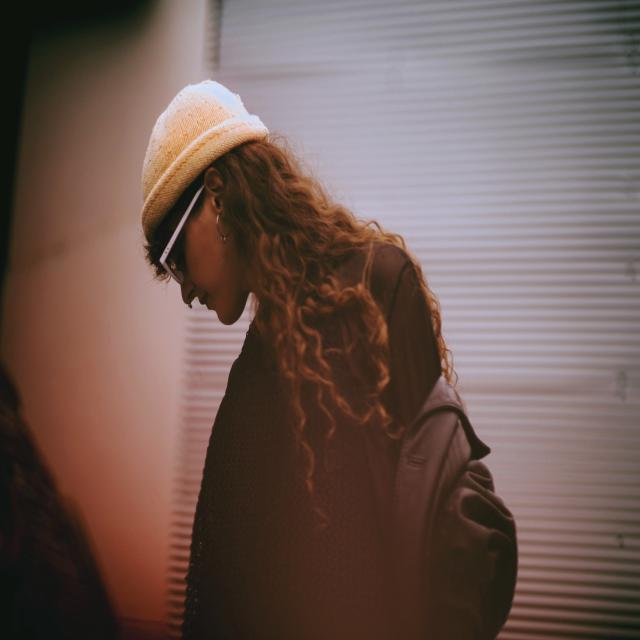adult: (143, 75, 523, 640)
